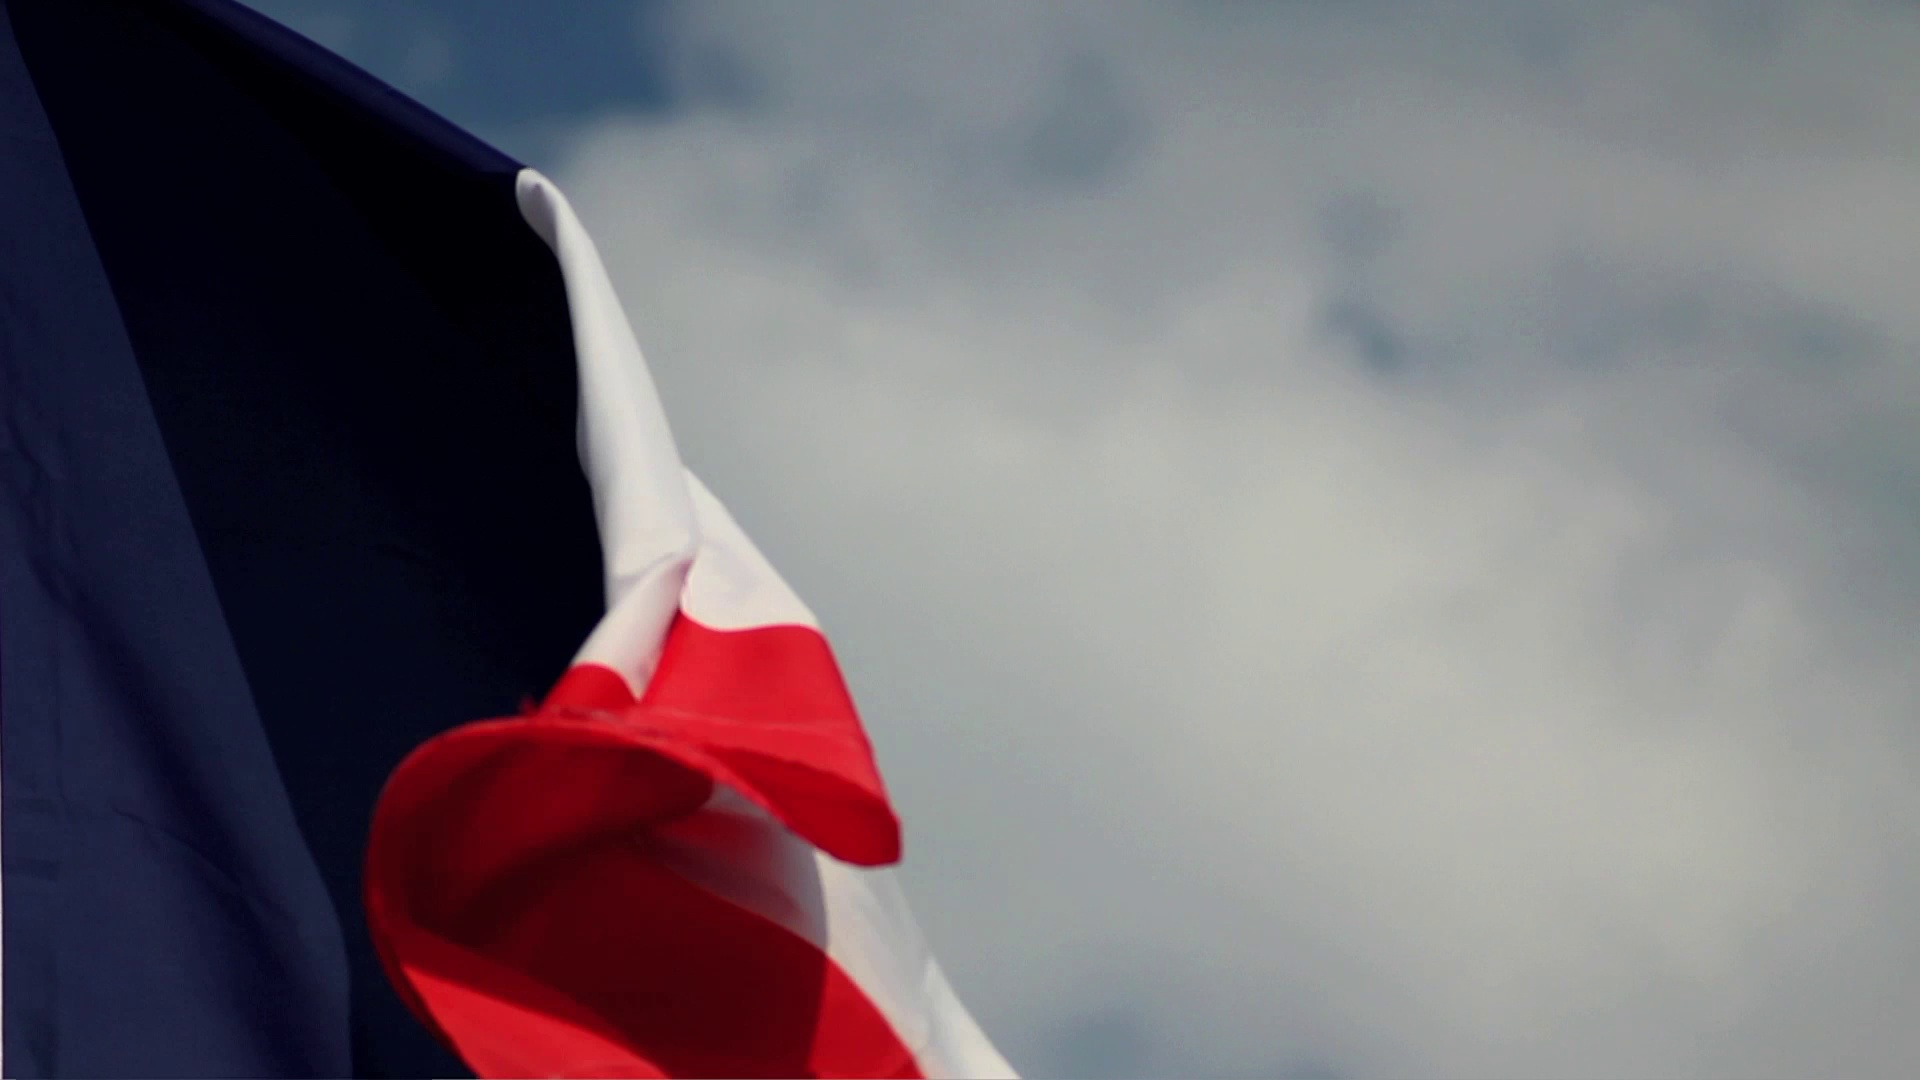French Flag: (1, 1, 1014, 1080)
